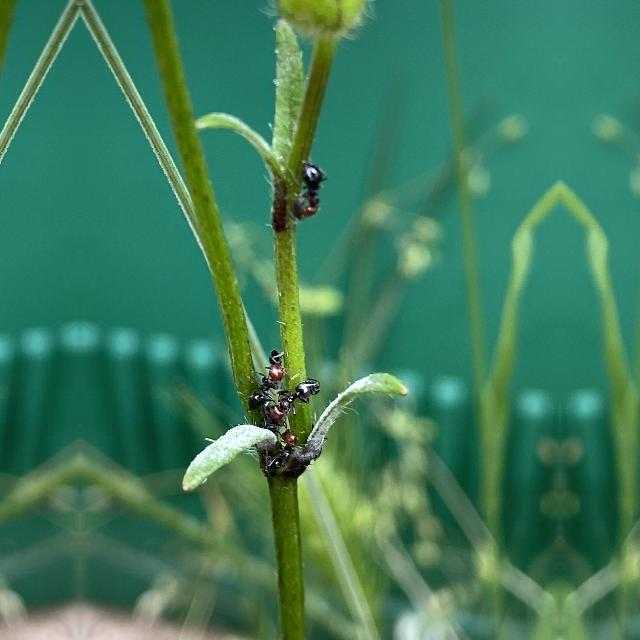Crematogaster: (272, 370, 326, 424), (244, 356, 290, 410), (268, 416, 304, 479), (294, 163, 328, 229)
